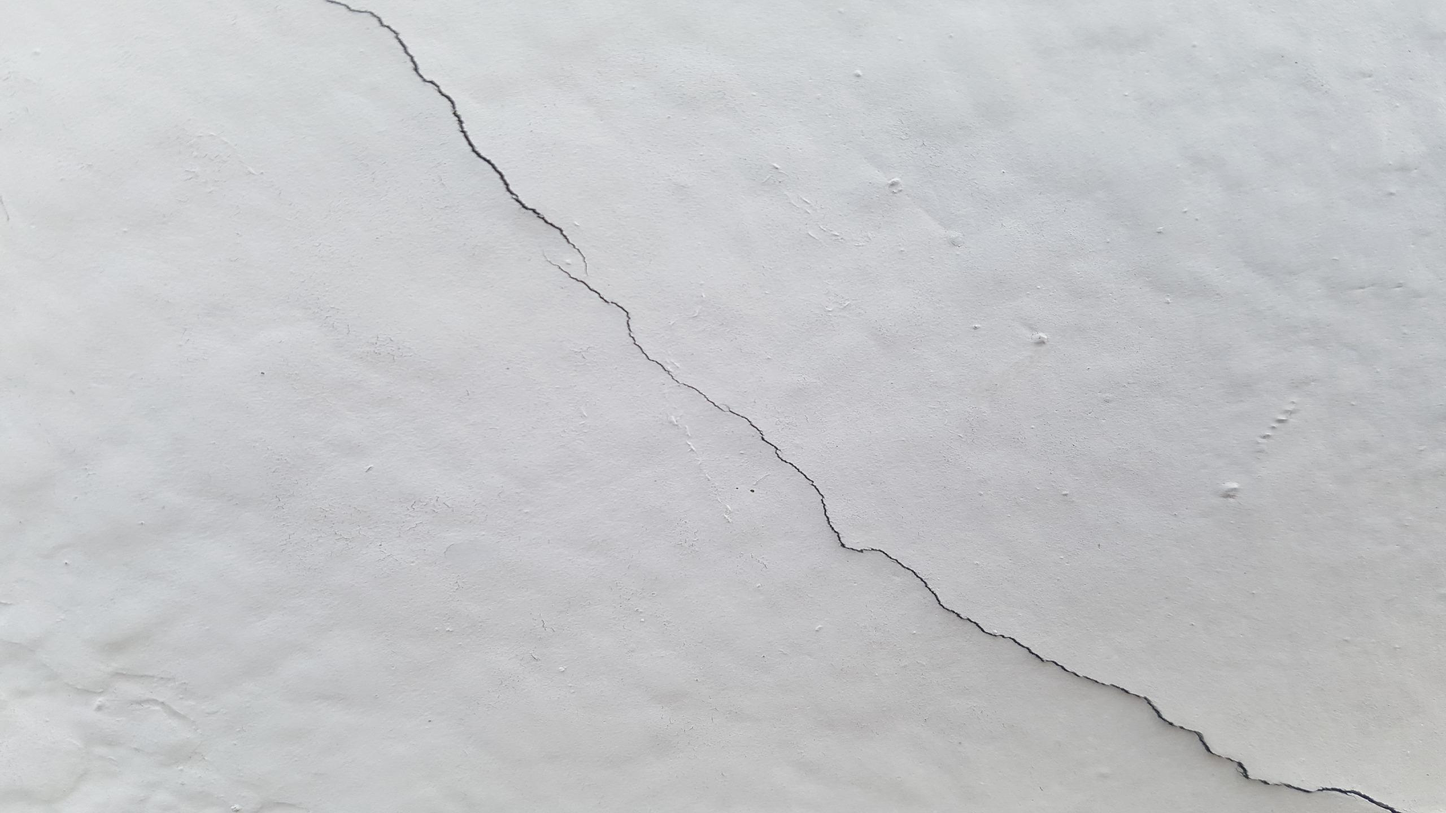crack: (550, 264, 1393, 811), (325, 0, 588, 272)
